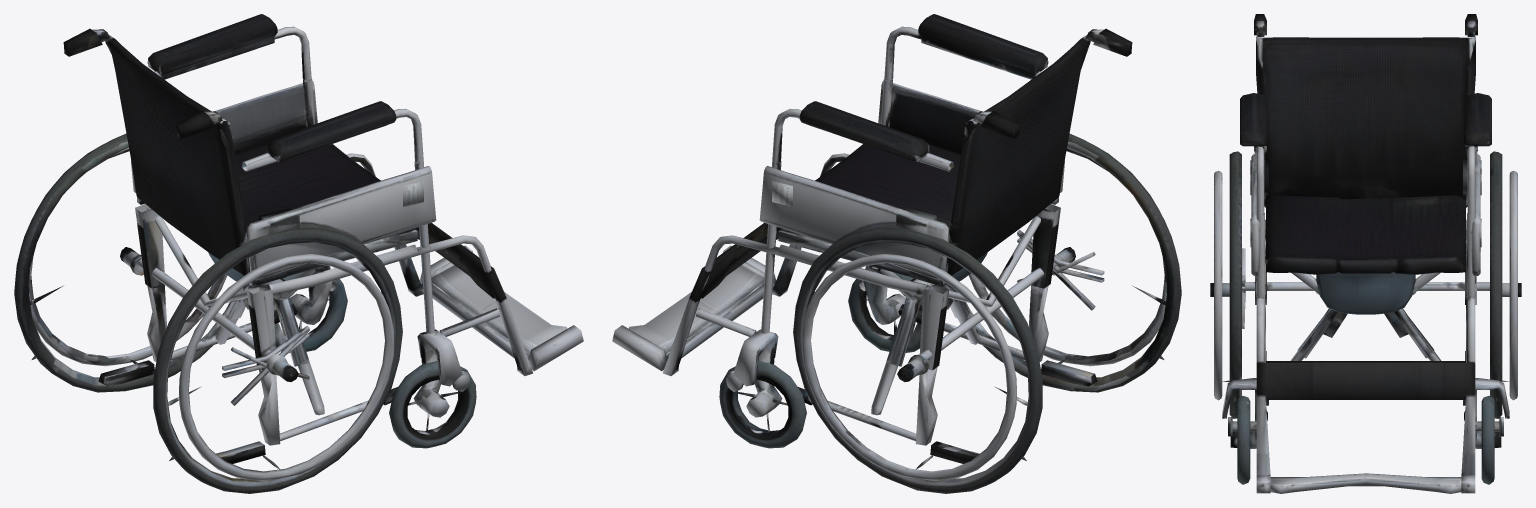
File: wheelchair3.fbx
3 renders of one model, left to right at view 1: azimuth 30°, elevation 25°; view 2: azimuth 150°, elevation 25°; view 3: azimuth 270°, elevation 25°, orthographic. The views are drawn at different scales.
Parts seen in each view (by area): view 1: tripo_node_1056cab1; view 2: tripo_node_1056cab1; view 3: tripo_node_1056cab1.
Part boxes in pixels (x1,y1,x2,y2): tripo_node_1056cab1: (14,14,583,493); tripo_node_1056cab1: (612,14,1181,493); tripo_node_1056cab1: (1210,14,1521,493).
Bounding box in the file's own units: 94.04 × 77.63 × 61.05.
Materials: 1 (1 with a texture image).
